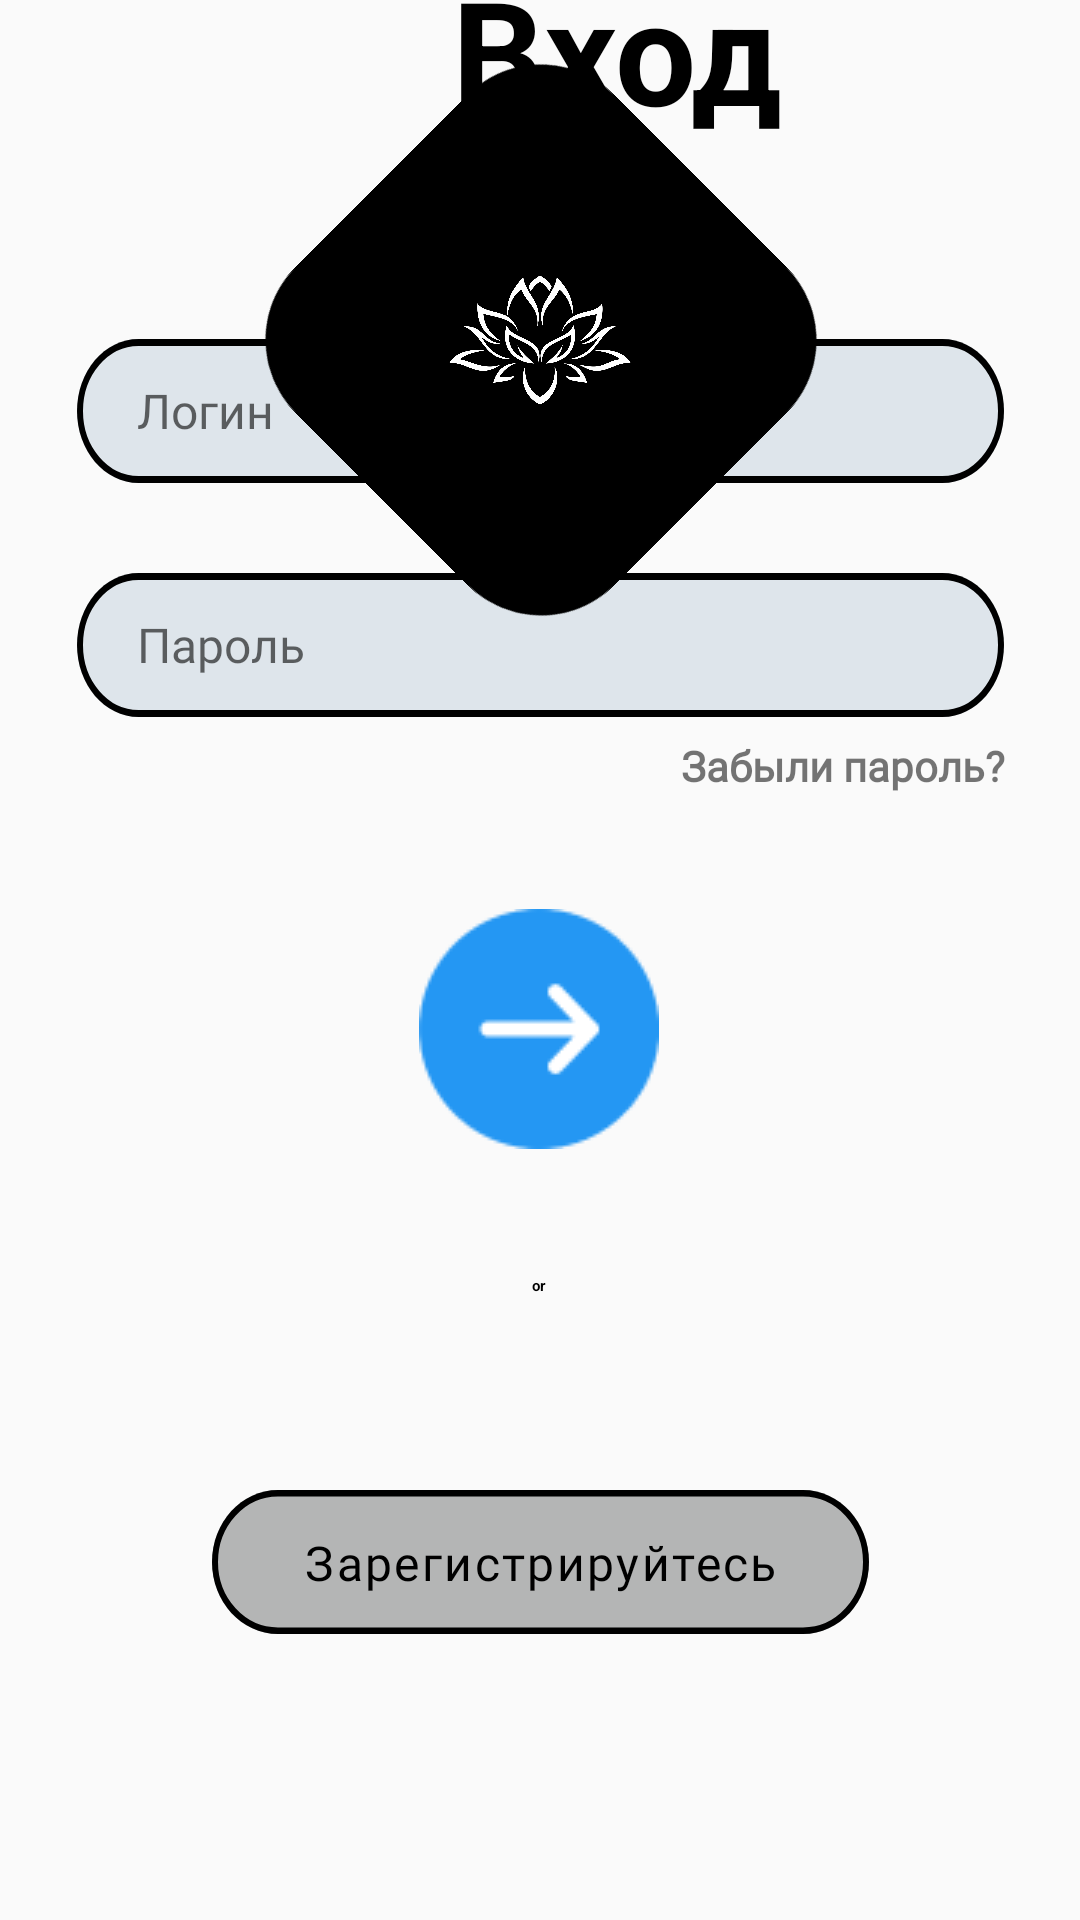

Icon click points for this 1080 × 1920 phone screenshot, format point (x, y):
lotus: point (540, 340)
right arrow: point (539, 1029)
